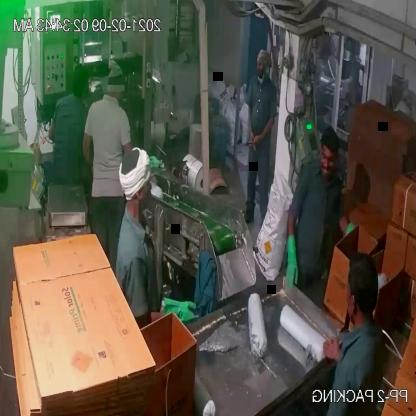glove: (156, 284, 204, 334), (277, 233, 304, 298)
no_glove: (252, 102, 285, 158), (239, 101, 259, 151)
